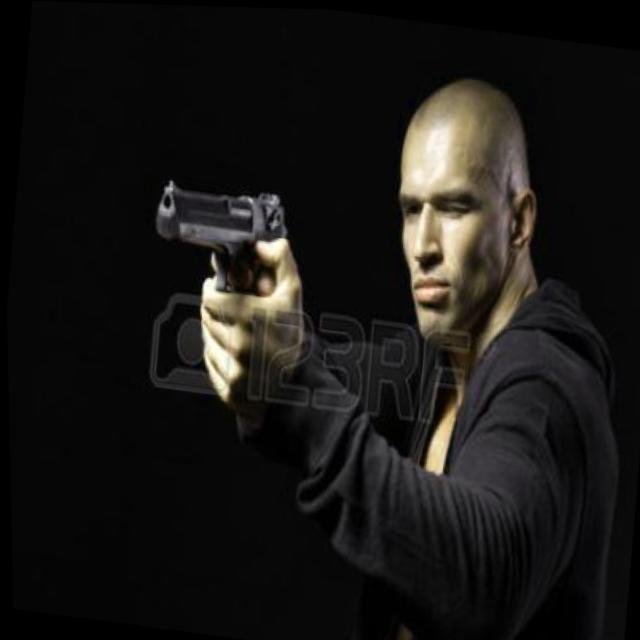weapon: (127, 159, 320, 406)
